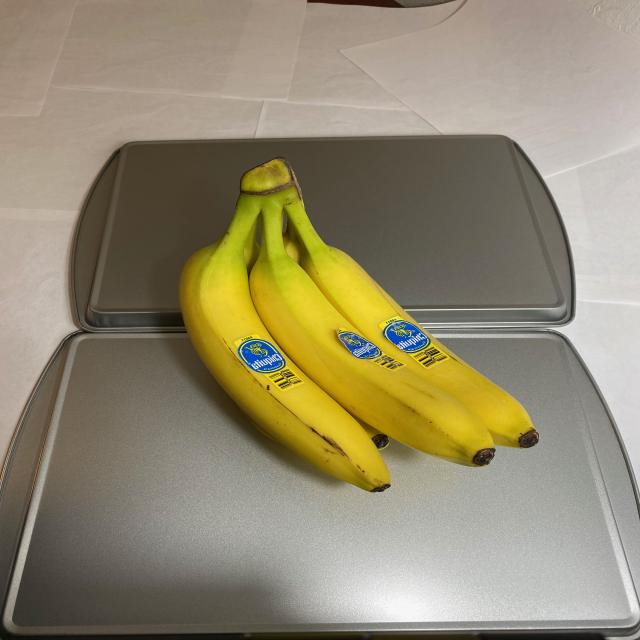banana: (173, 157, 543, 497)
